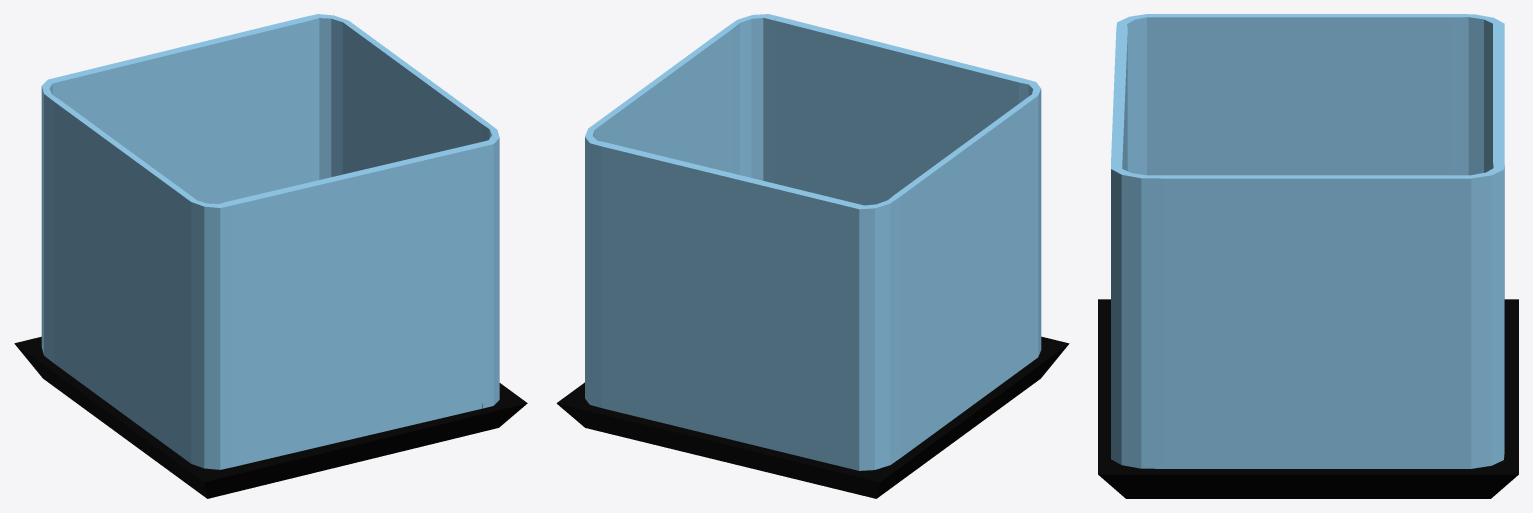
File: Pecera.fbx
3 views of the same model, side by side, from view 1: azimuth 30°, elevation 25°; view 2: azimuth 150°, elevation 25°; view 3: azimuth 270°, elevation 25° (orthographic). The views are drawn at different scales.
Visible parts, largest first — view 1: Box002, Box001; view 2: Box002, Box001; view 3: Box002, Box001.
Boxes of the visible parts, bbox=[...] form: Box002: bbox=[41, 14, 499, 469]; Box001: bbox=[14, 336, 527, 498]; Box002: bbox=[585, 14, 1041, 470]; Box001: bbox=[556, 336, 1069, 498]; Box002: bbox=[1111, 14, 1504, 468]; Box001: bbox=[1098, 299, 1518, 498].
Bounding box in the file's own units: 238 × 205 × 242.
